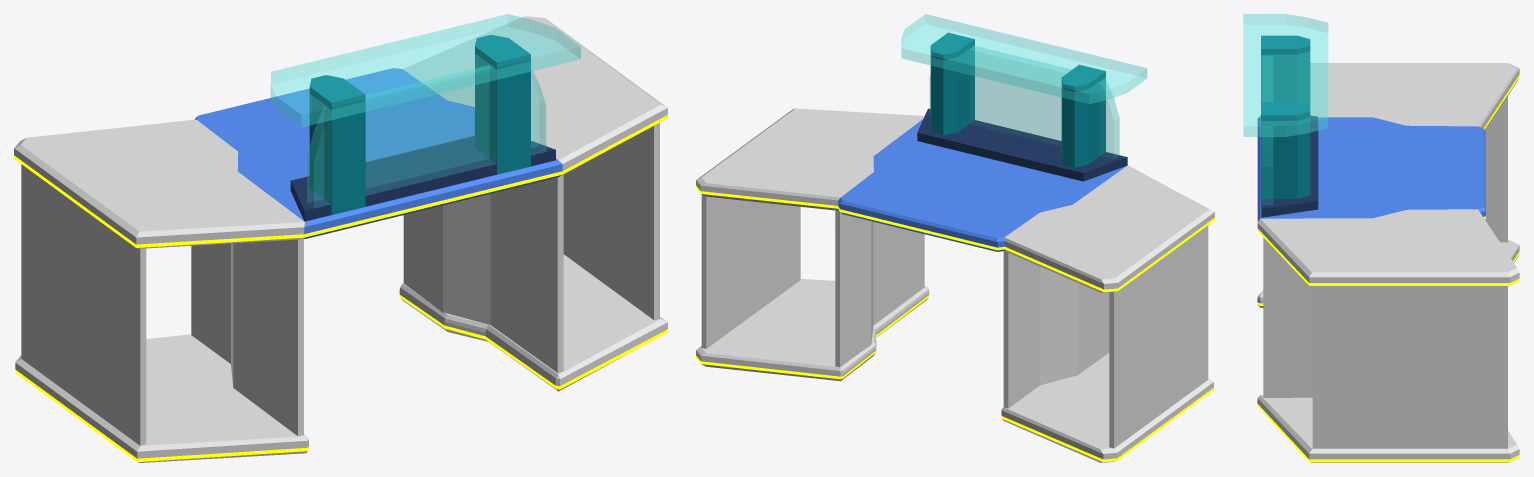
File: table_tier19.fbx
The picture shows the model from 3 angles, left to right: view 1: azimuth 30°, elevation 25°; view 2: azimuth 150°, elevation 25°; view 3: azimuth 270°, elevation 25°; orthographic projection. The views are drawn at different scales.
Visible parts, largest first — view 1: Cube.005, Cube.001, Cube.010, Cube.006, Cube.011, Cube.002, Cube.009, Cube, Cube.007, Cube.004, Cube.008, Cube.003; view 2: Cube.005, Cube.001, Cube.011, Cube, Cube.006, Cube.007, Cube.010, Cube.002, Cube.009, Cube.008, Cube.004, Cube.003; view 3: Cube.005, Cube, Cube.006, Cube.010, Cube.007, Cube.003, Cube.004, Cube.001, Cube.008, Cube.002, Cube.009.
Part boxes in pixels (x1=…): Cube.005: x1=14, y1=16, x2=667, y2=248; Cube.001: x1=21, y1=164, x2=146, y2=445; Cube.010: x1=403, y1=174, x2=563, y2=372; Cube.006: x1=271, y1=14, x2=580, y2=127; Cube.011: x1=191, y1=239, x2=303, y2=436; Cube.002: x1=307, y1=65, x2=545, y2=207; Cube.009: x1=15, y1=334, x2=308, y2=462; Cube: x1=563, y1=122, x2=659, y2=320; Cube.007: x1=399, y1=254, x2=667, y2=391; Cube.004: x1=309, y1=75, x2=365, y2=214; Cube.008: x1=290, y1=136, x2=555, y2=221; Cube.003: x1=475, y1=34, x2=530, y2=174; Cube.005: x1=696, y1=108, x2=1214, y2=292; Cube.001: x1=1109, y1=225, x2=1208, y2=448; Cube.011: x1=1003, y1=251, x2=1109, y2=408; Cube: x1=701, y1=194, x2=800, y2=348; Cube.006: x1=901, y1=14, x2=1146, y2=103; Cube.007: x1=696, y1=279, x2=929, y2=380; Cube.010: x1=835, y1=210, x2=924, y2=367; Cube.002: x1=930, y1=46, x2=1119, y2=158; Cube.009: x1=1001, y1=353, x2=1213, y2=462; Cube.008: x1=917, y1=108, x2=1127, y2=181; Cube.004: x1=1061, y1=64, x2=1105, y2=167; Cube.003: x1=930, y1=32, x2=974, y2=135; Cube.005: x1=1257, y1=63, x2=1519, y2=286; Cube: x1=1312, y1=286, x2=1507, y2=448; Cube.006: x1=1243, y1=14, x2=1327, y2=136; Cube.010: x1=1263, y1=237, x2=1312, y2=397; Cube.007: x1=1257, y1=395, x2=1519, y2=462; Cube.003: x1=1261, y1=102, x2=1310, y2=207; Cube.004: x1=1261, y1=35, x2=1310, y2=105; Cube.001: x1=1485, y1=96, x2=1507, y2=242; Cube.008: x1=1261, y1=115, x2=1318, y2=217; Cube.002: x1=1262, y1=137, x2=1272, y2=204; Cube.009: x1=1257, y1=240, x2=1519, y2=307.
Size of the model in its own units: 224 by 141 by 123.
